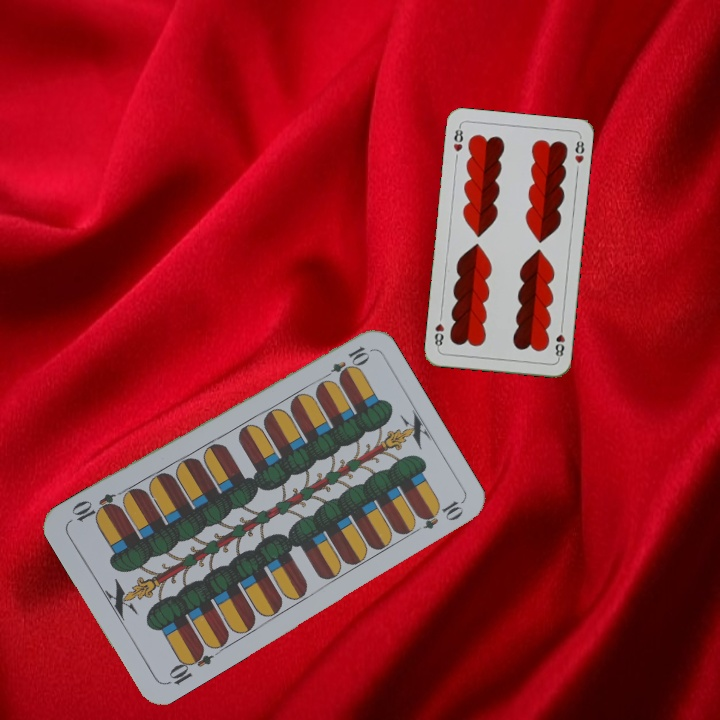E10: (162, 643, 215, 688), (317, 342, 372, 384)
H8: (551, 321, 567, 362), (449, 122, 465, 154)
